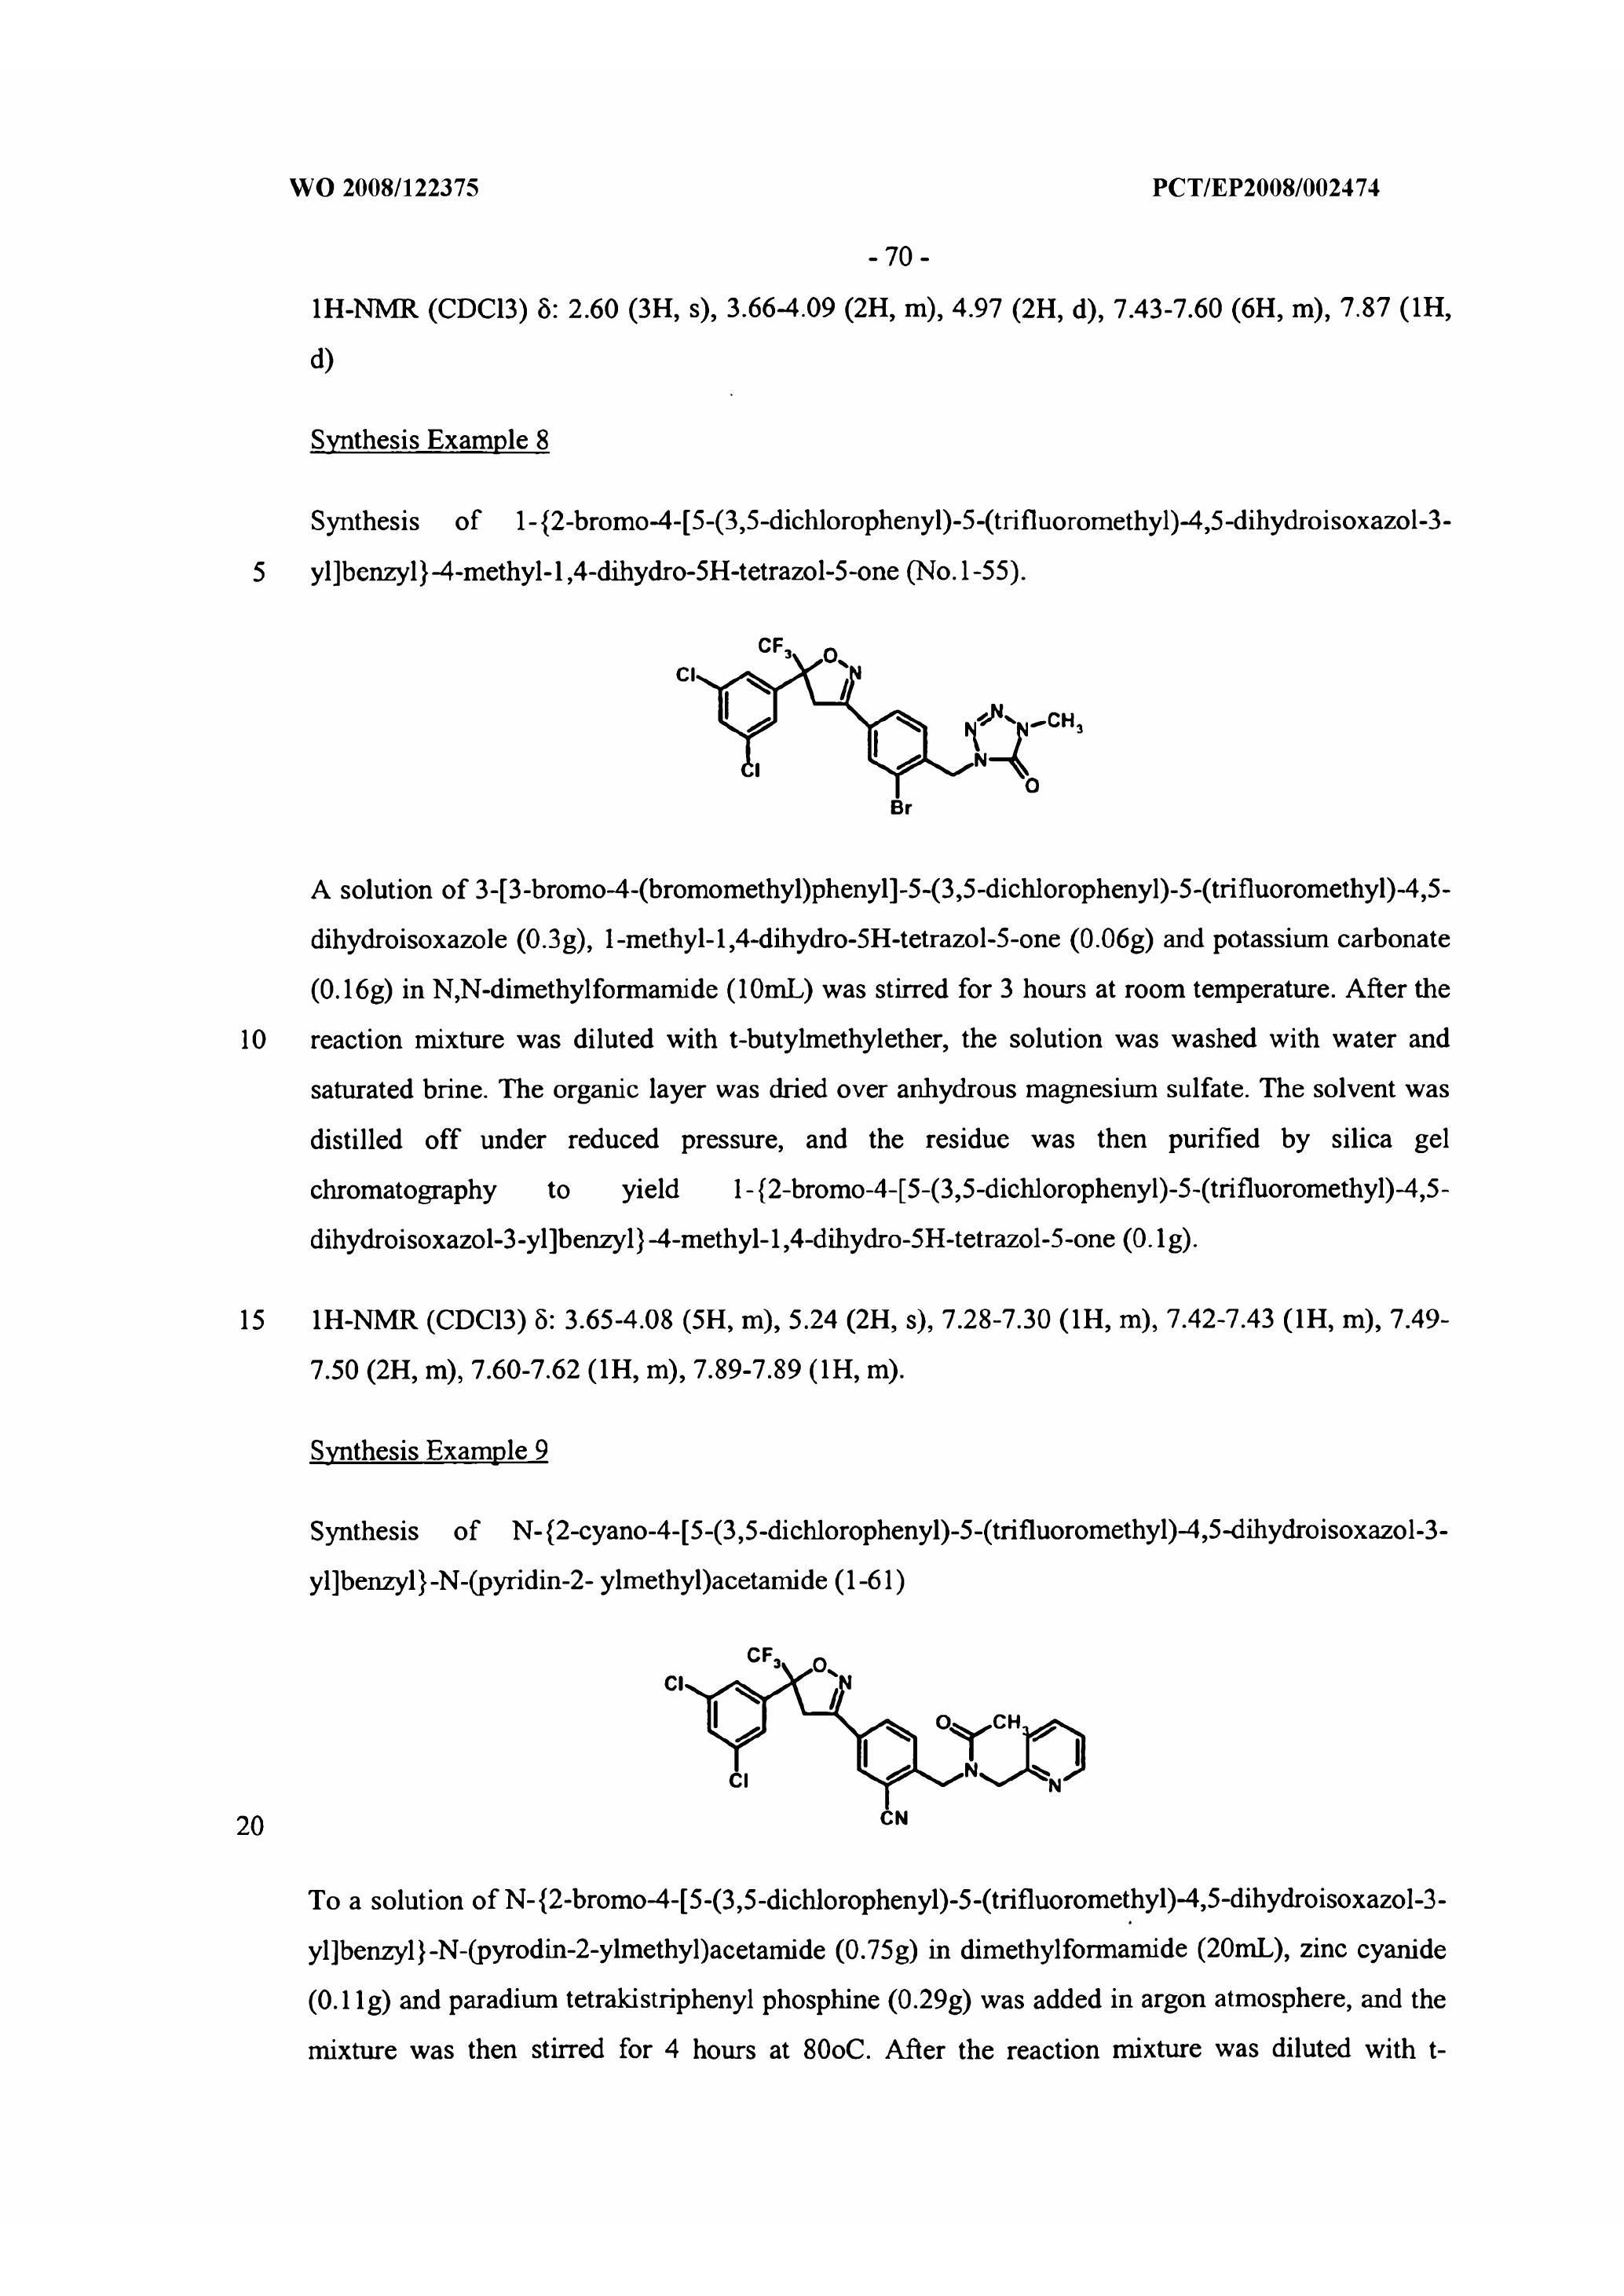relevant-structures: (649, 608, 1174, 856), (640, 1624, 1167, 1869)
